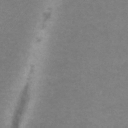finishing roll printing: (11, 64, 35, 128), (42, 7, 52, 29), (36, 37, 41, 42)
